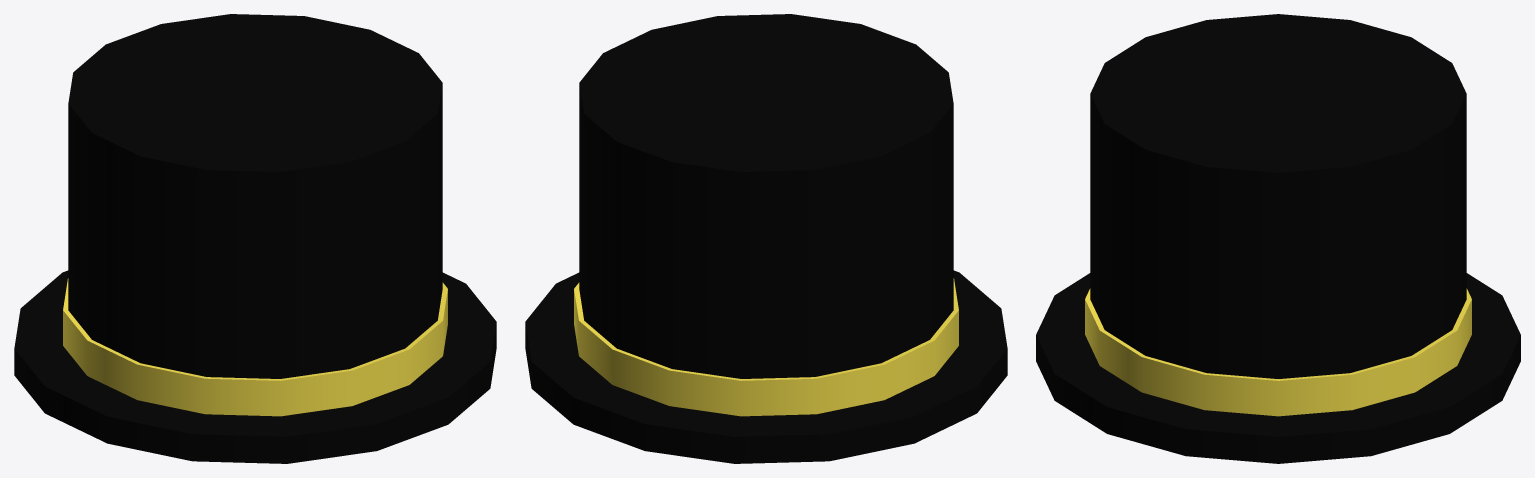
File: Cartola.fbx
3 renders of one model, left to right at view 1: azimuth 30°, elevation 25°; view 2: azimuth 150°, elevation 25°; view 3: azimuth 270°, elevation 25°, orthographic.
Parts seen in each view (by area): view 1: Cartola; view 2: Cartola; view 3: Cartola.
Boxes of the visible parts, bbox=[...] form: Cartola: bbox=[14, 14, 496, 463]; Cartola: bbox=[525, 14, 1007, 463]; Cartola: bbox=[1036, 14, 1520, 463].
Bounding box in the file's own units: 251 × 153 × 251.
